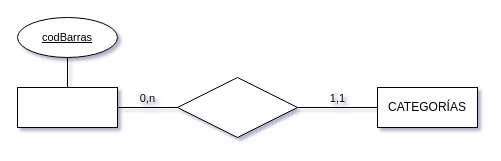
The diagram is 501 pixels wide and 161 high, and some of its shapes have lost their labels. Each missing label, with the box of its shape:
Pertenecer: (176, 76, 298, 138)
PRODUCTOS: (16, 86, 118, 128)
